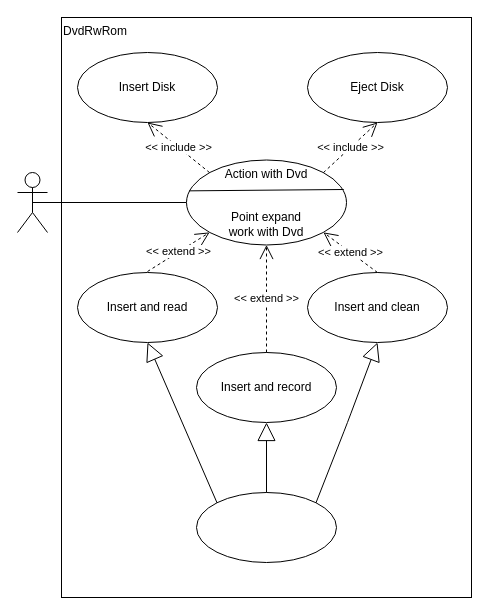
The diagram is 489 pixels wide and 615 high, and some of its shapes have lost their labels. The centre of each missing label's shape, as x and y in pixels:
Check disk for error: [266,527]
User: [32,202]
